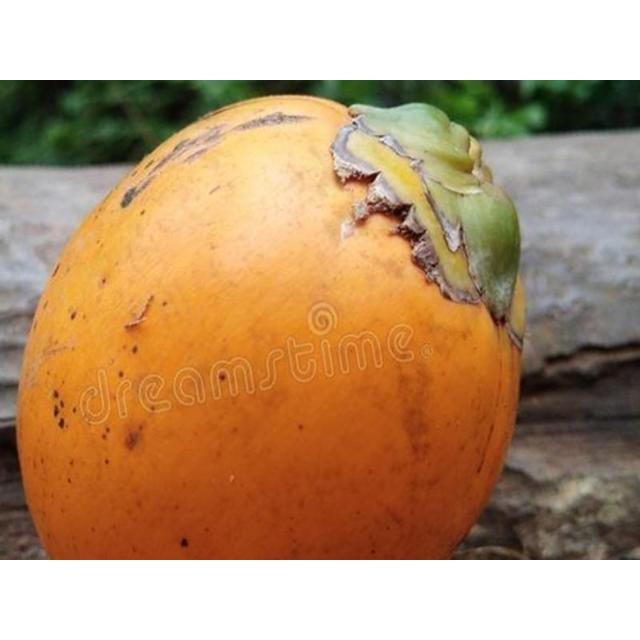good: (14, 94, 527, 559)
